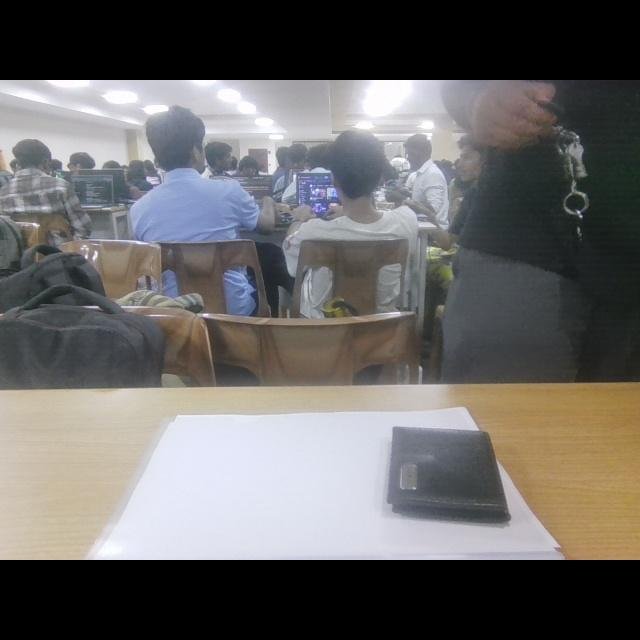wallet: (385, 414, 531, 528)
